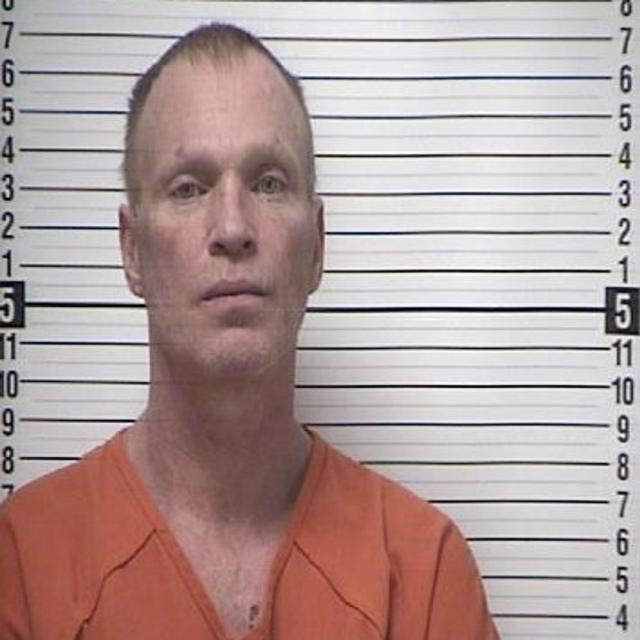mobile_phonerotation: (1, 1, 636, 638)
